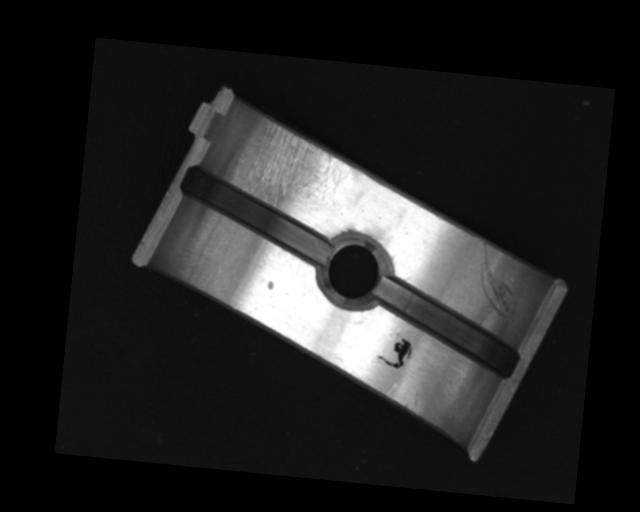blot: (374, 335, 413, 371)
bruise: (265, 279, 275, 291)
gap: (368, 276, 528, 380), (174, 164, 335, 266)
hole: (317, 236, 390, 310)
nick: (473, 239, 522, 322)
scratch: (227, 116, 361, 214)
